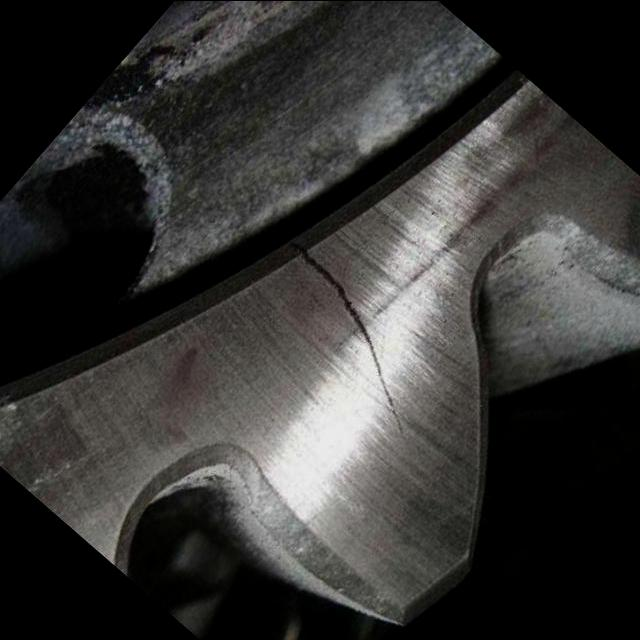defect: (284, 234, 408, 443)
